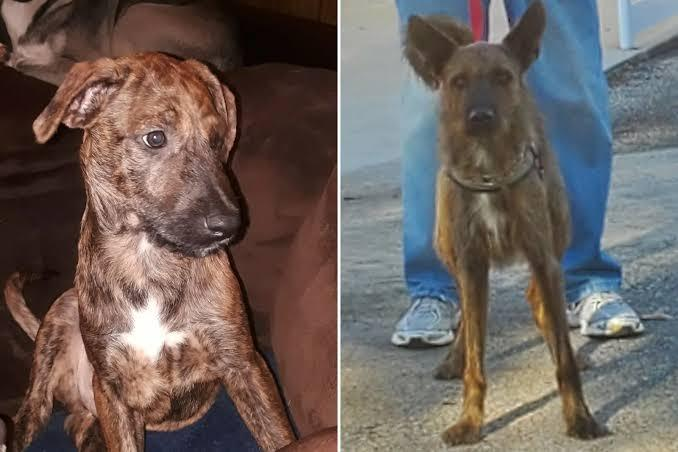adult_dog: (405, 2, 606, 445)
non-dog: (389, 0, 645, 350)
puppy-dog: (1, 51, 300, 452)
